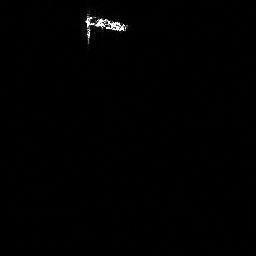ship: (81, 11, 131, 50)
